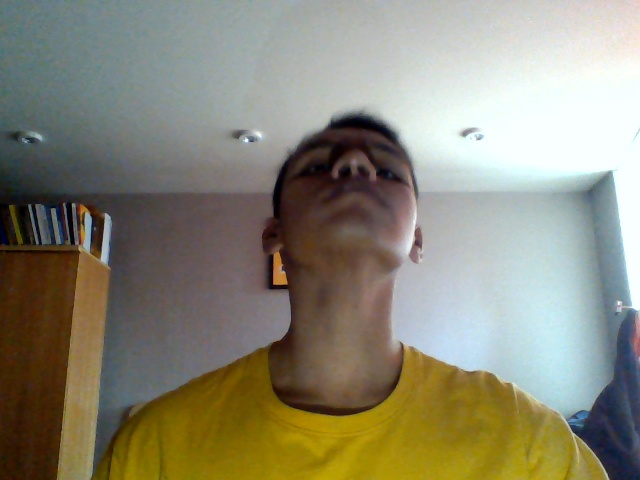no_mask: (277, 160, 406, 273)
